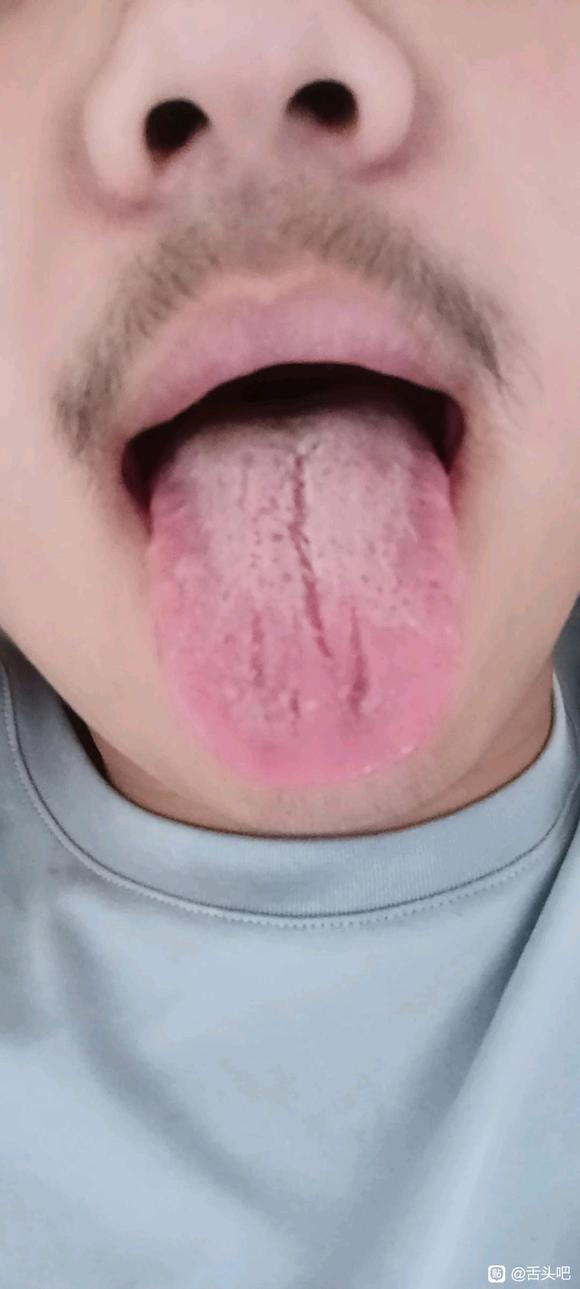baitaishe: (146, 385, 466, 789)
liewenshe: (286, 451, 334, 662), (345, 606, 374, 715)
